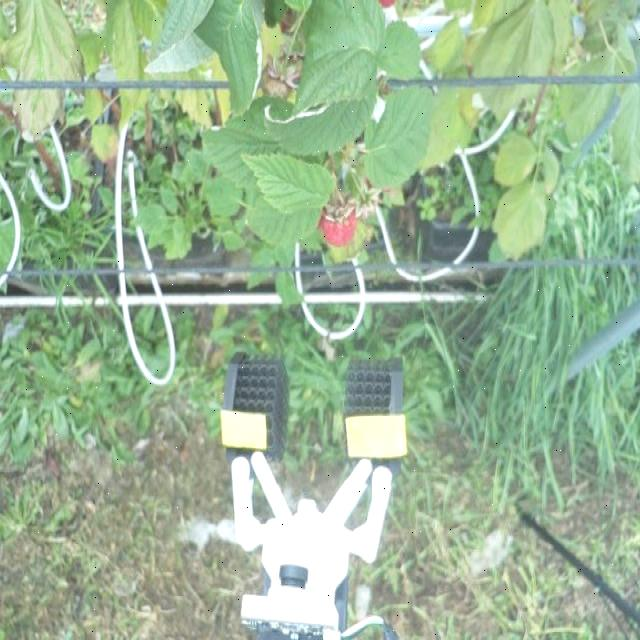Riped berries: (317, 199, 359, 249)
